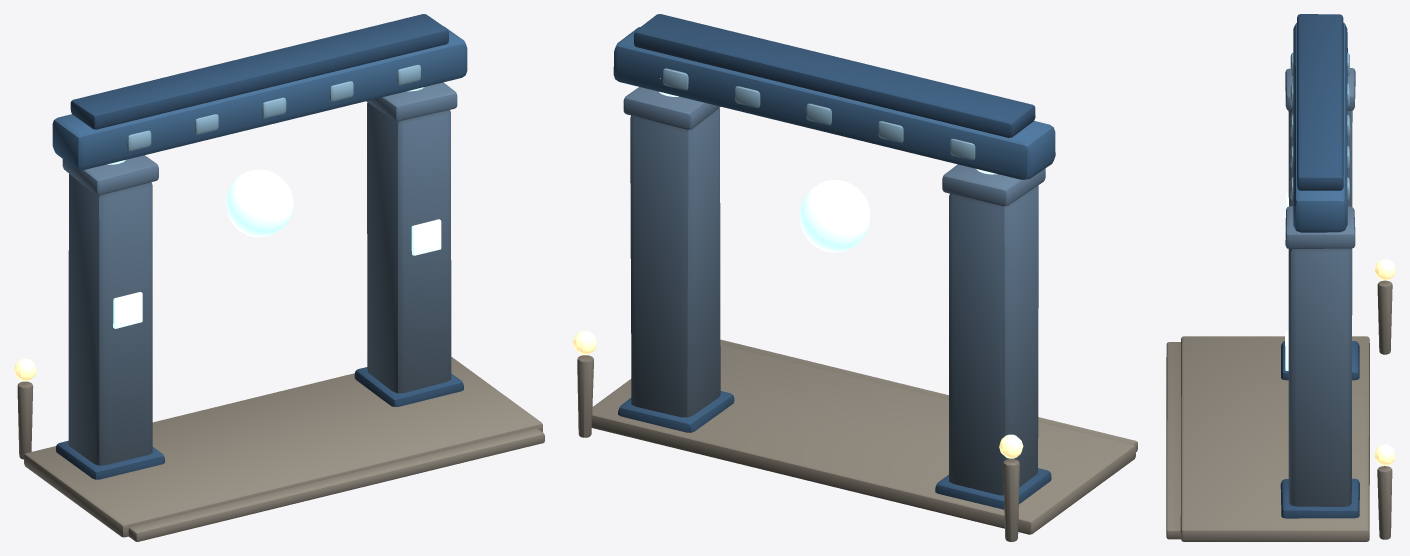
3 views of the same model, side by side, from view 1: azimuth 30°, elevation 25°; view 2: azimuth 150°, elevation 25°; view 3: azimuth 270°, elevation 25° (orthographic). The views are drawn at different scales.
Visible parts, largest first — view 1: gate_3cce70a7; view 2: gate_3cce70a7; view 3: gate_3cce70a7.
Part boxes in pixels (x1,y1,x2,y2): gate_3cce70a7: [14, 14, 544, 541]; gate_3cce70a7: [573, 14, 1137, 541]; gate_3cce70a7: [1166, 14, 1395, 541].
Bounding box in the file's own units: 5.13 × 4.3 × 2.55.
